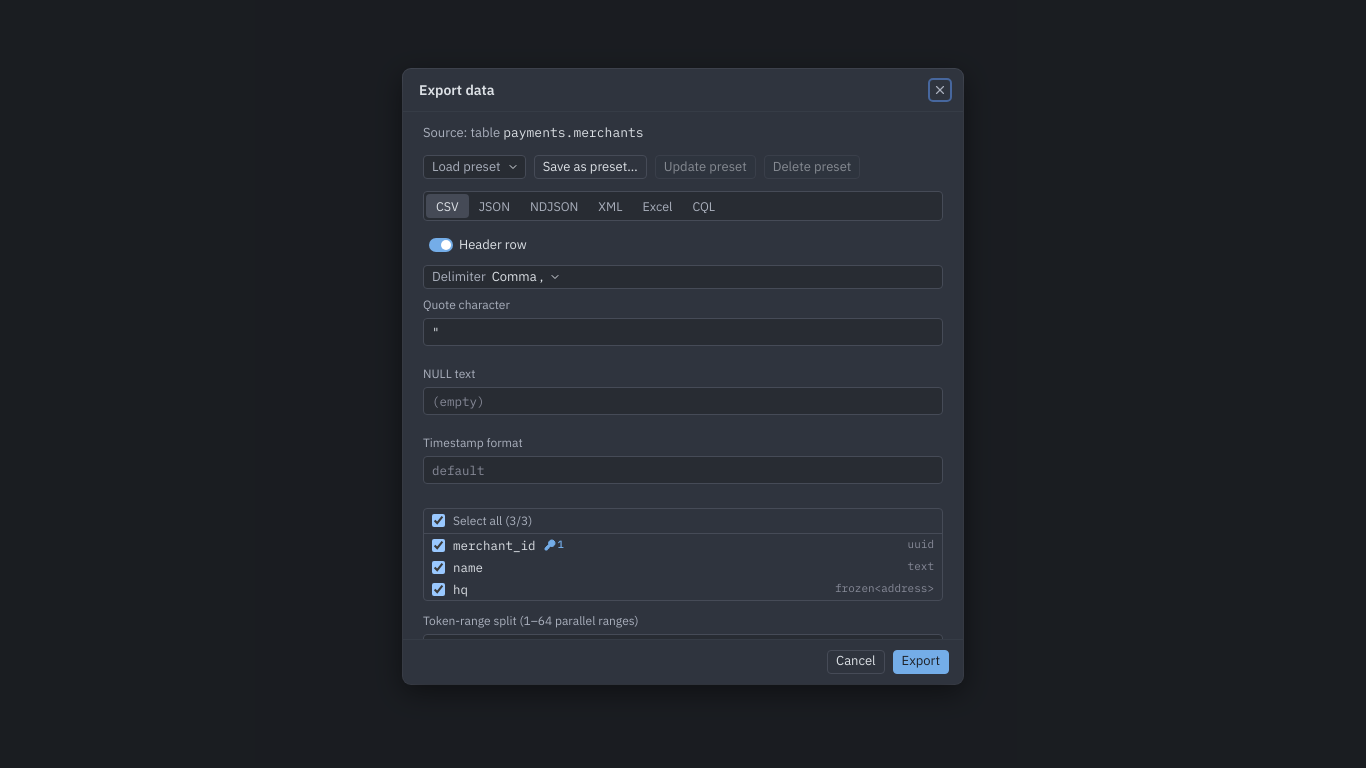
ExportDialog › applies a preset and reports the columns this table lacks
Expected: the checkbox labelled "merchant_id 1 uuid" is shown, [432,538,445,552]
Click the button "Load preset" at (474, 167), box [423,155,526,179]
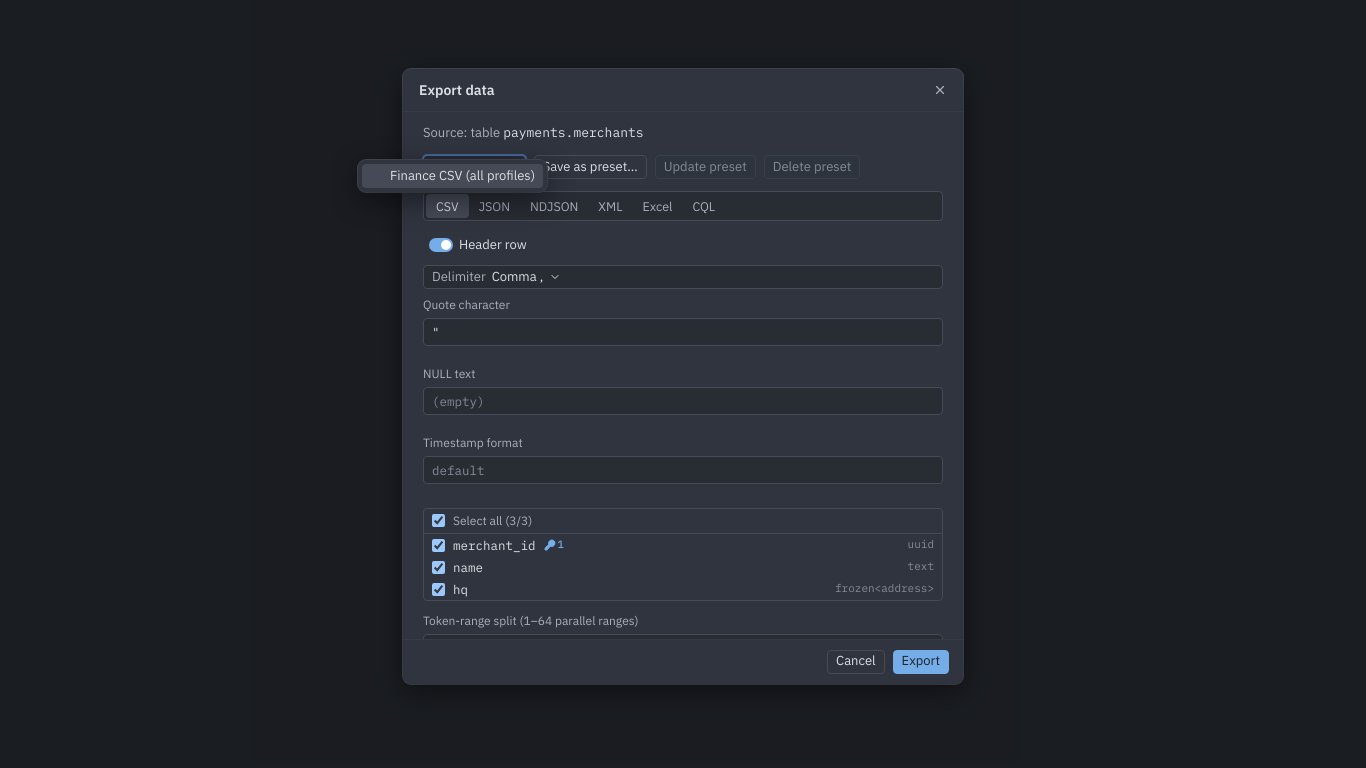
Click the option "Finance CSV (all profiles)" at (453, 176), box [362,164,543,188]
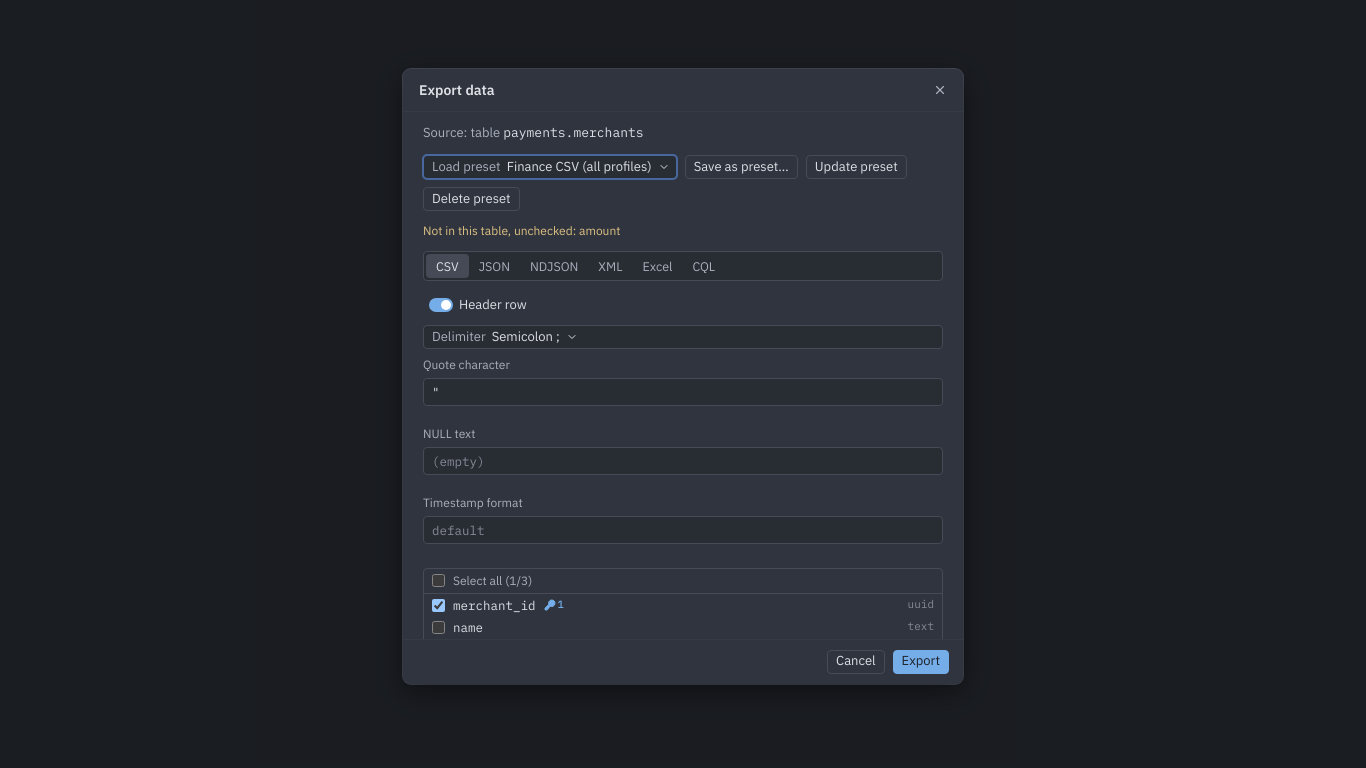
Expected: the checkbox labelled "merchant_id 1 uuid" is checked, [432,598,445,612]
Result: the text "Not in this table, unchecked: amount" is shown at [423,223,620,238]
Result: the checkbox labelled "name text" is not checked at [432,621,445,634]
